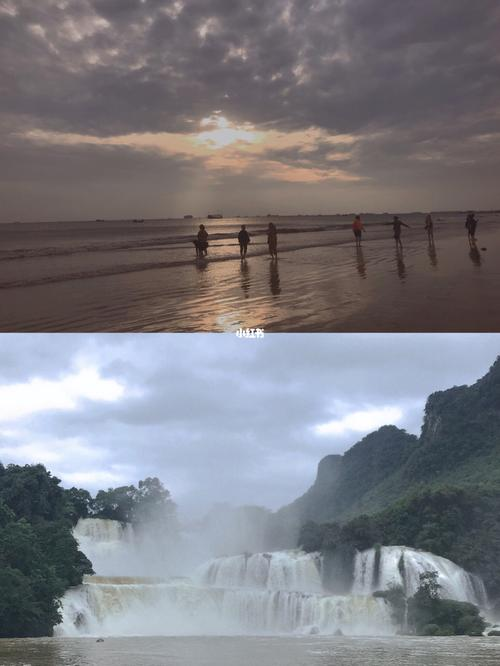sea_river: (29, 215, 442, 327), (8, 124, 475, 204)
sky_cloud: (0, 18, 496, 194)
